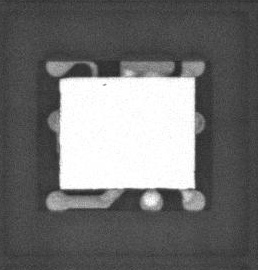DIE_INK: (97, 87, 102, 90)
